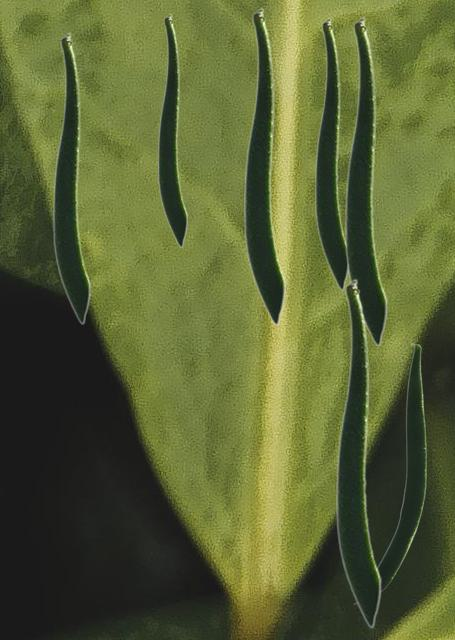french_bean: (353, 343, 425, 603), (335, 278, 381, 628), (344, 16, 387, 346), (243, 7, 285, 325), (52, 32, 90, 324), (314, 17, 347, 290), (157, 13, 187, 247)
